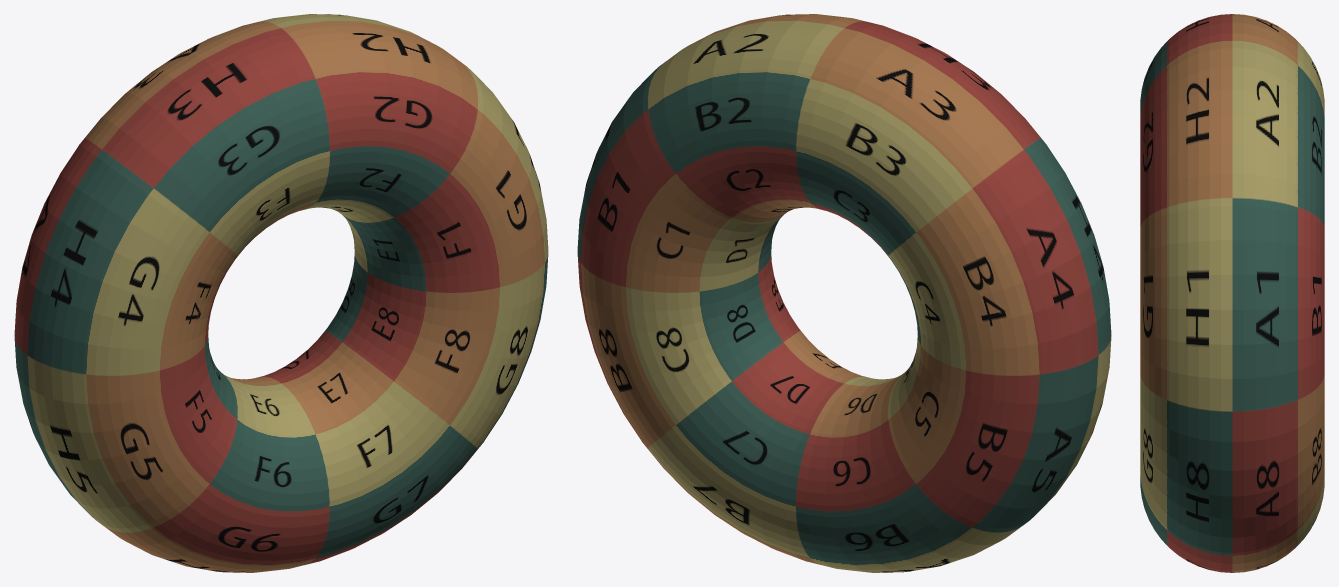
Rendered from texture_torus_R0_r11.glb.
3 views of the same model, side by side, from view 1: azimuth 30°, elevation 25°; view 2: azimuth 150°, elevation 25°; view 3: azimuth 270°, elevation 25° (orthographic). The views are drawn at different scales.
Parts seen in each view (by area): view 1: world; view 2: world; view 3: world.
Part boxes in pixels (box(x1,y1,x2,y2)): world: box(14, 14, 548, 572); world: box(577, 14, 1111, 572); world: box(1140, 14, 1324, 572).
Bounding box in the file's own units: 14.93 × 14.9 × 4.92.
1 material, 1 textured.
